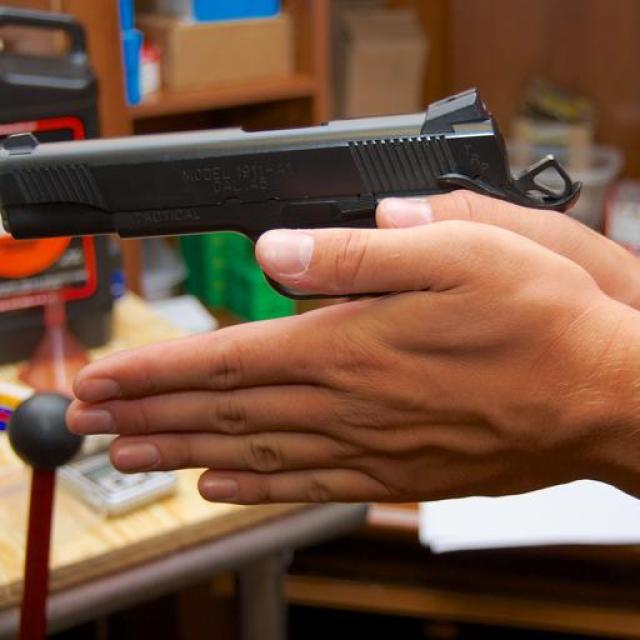pistol: (2, 84, 586, 324)
